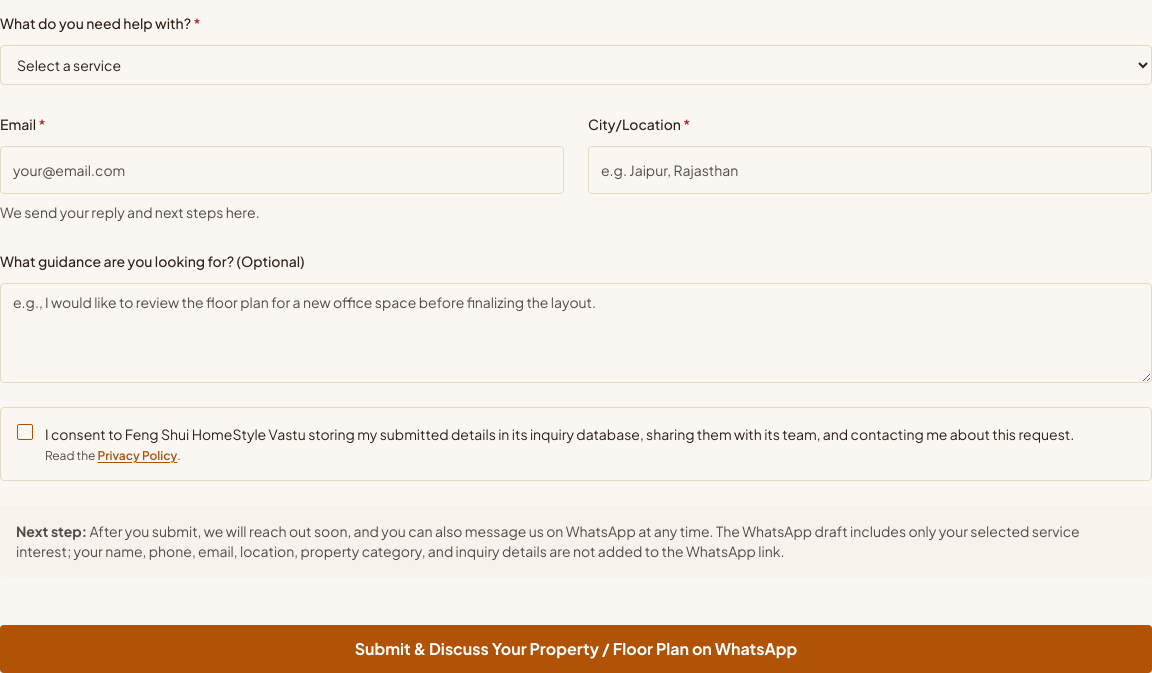
Test: ContactForm › announces required-field errors and does not send an incomplete form
(page scrolled)
Step 1. Click the button "Submit & Discuss Your Property / Floor Plan on WhatsApp" → (576, 649), box 0,625 -> 1151,672
(page scrolled)
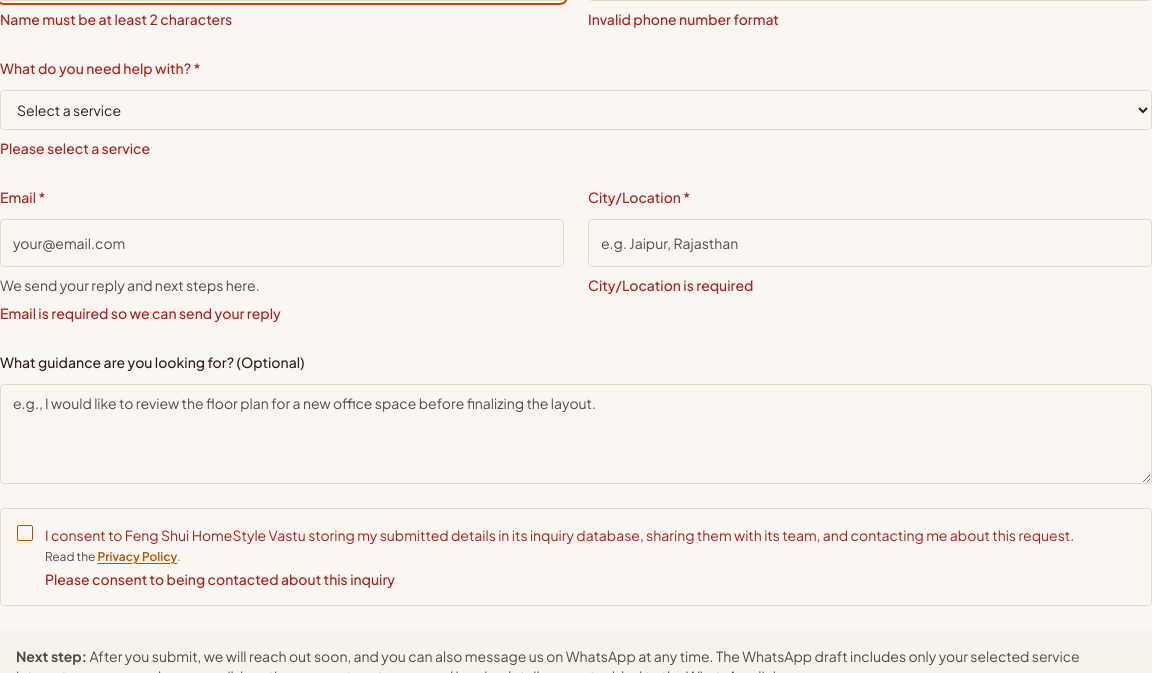
Now the text "Name must be at least 2 characters" is shown, box 0,10 -> 232,28
Now the text "Invalid phone number format" is shown, box 588,10 -> 779,28
Now the text "City/Location is required" is shown, box 588,276 -> 753,294
